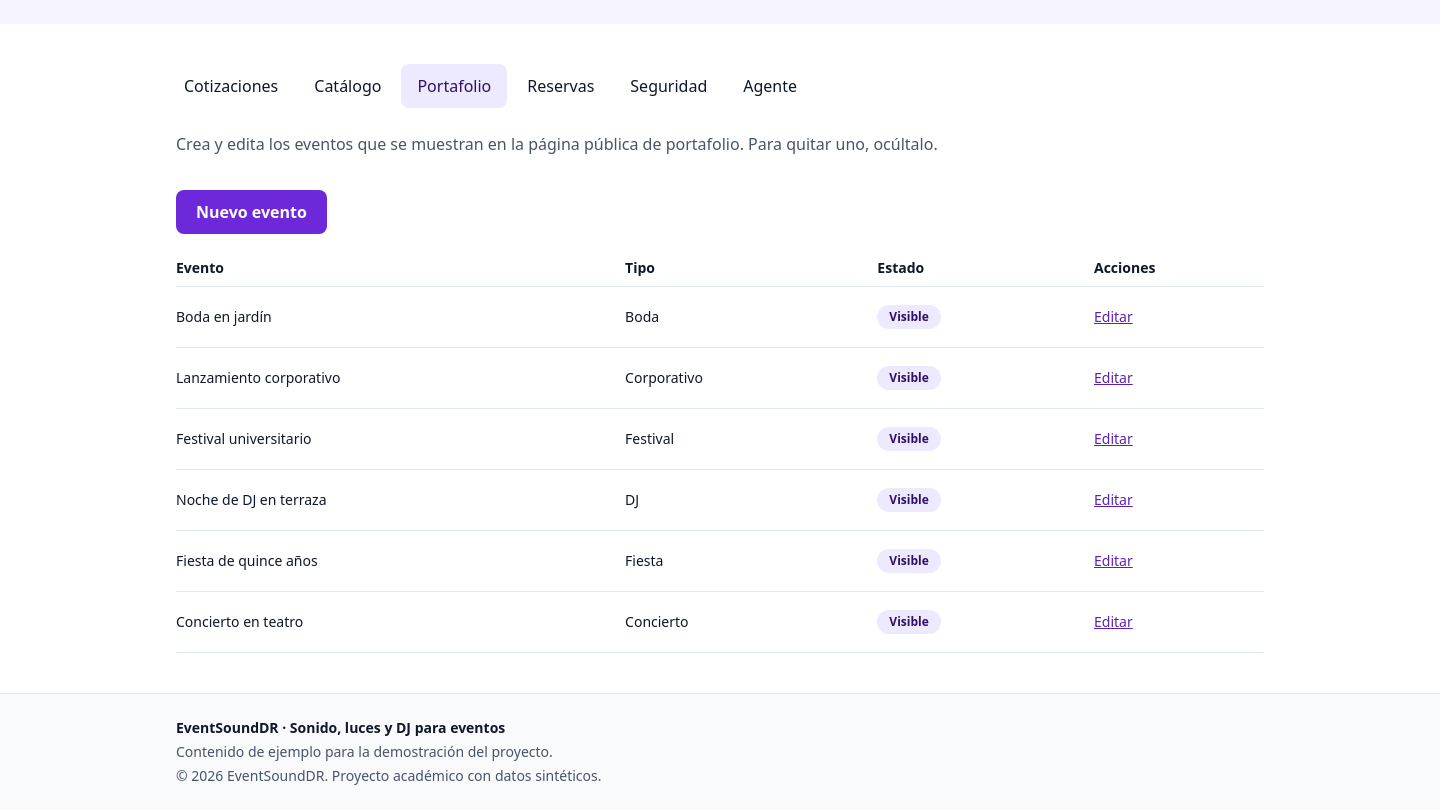
Test: portfolio admin › opens the form in a dialog; cancel and Escape close it without saving
The width and height of the screenshot is (1440, 810).
(page scrolled)
Click the button "Editar" in the row of "Concierto en teatro".
click(1113, 622)  # box top-left (1094, 600), bottom-right (1133, 644)
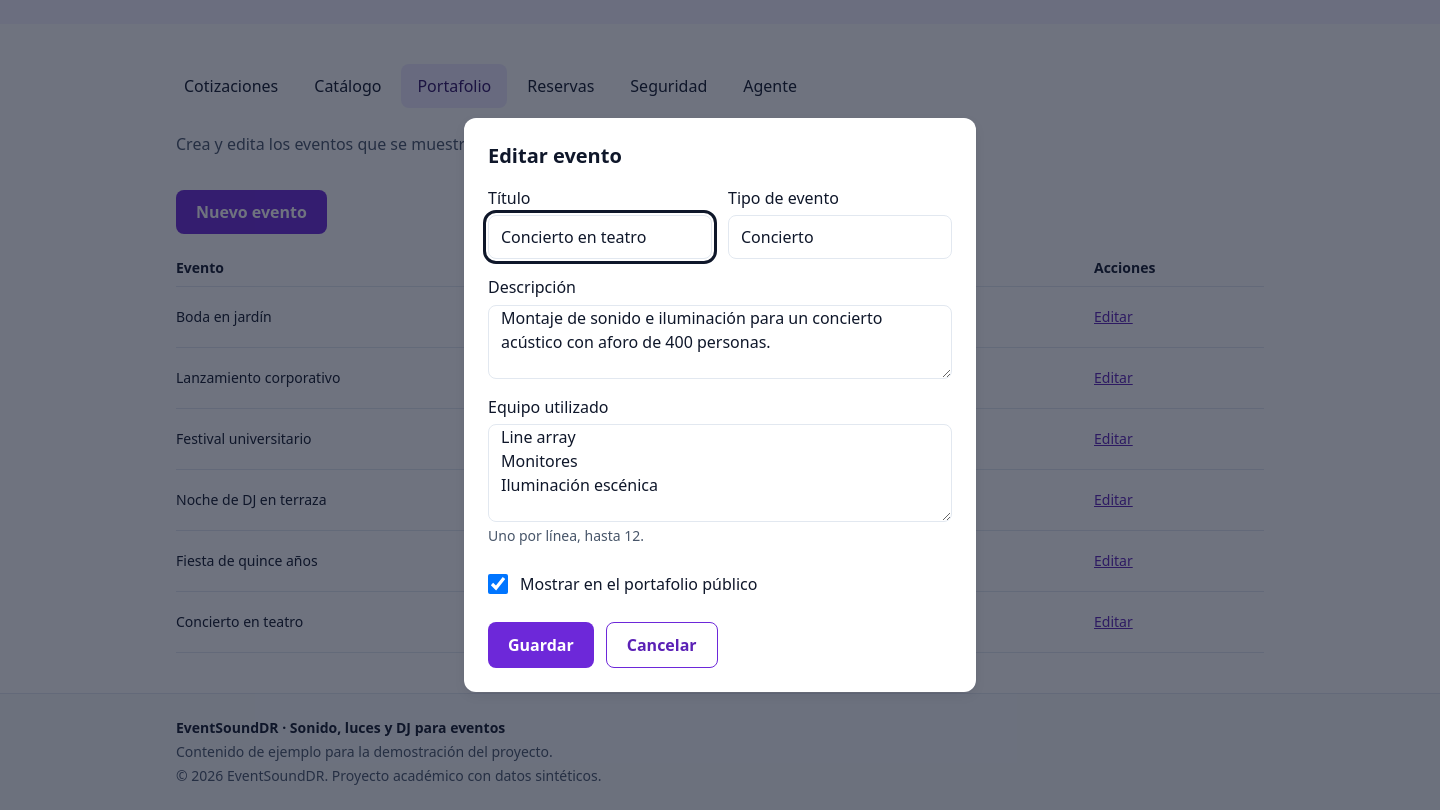
Now the field labelled "Título" holds "Concierto en teatro", box top-left (488, 215), bottom-right (712, 259)
Click the button "Cancelar".
click(662, 645)  # box top-left (606, 622), bottom-right (718, 668)
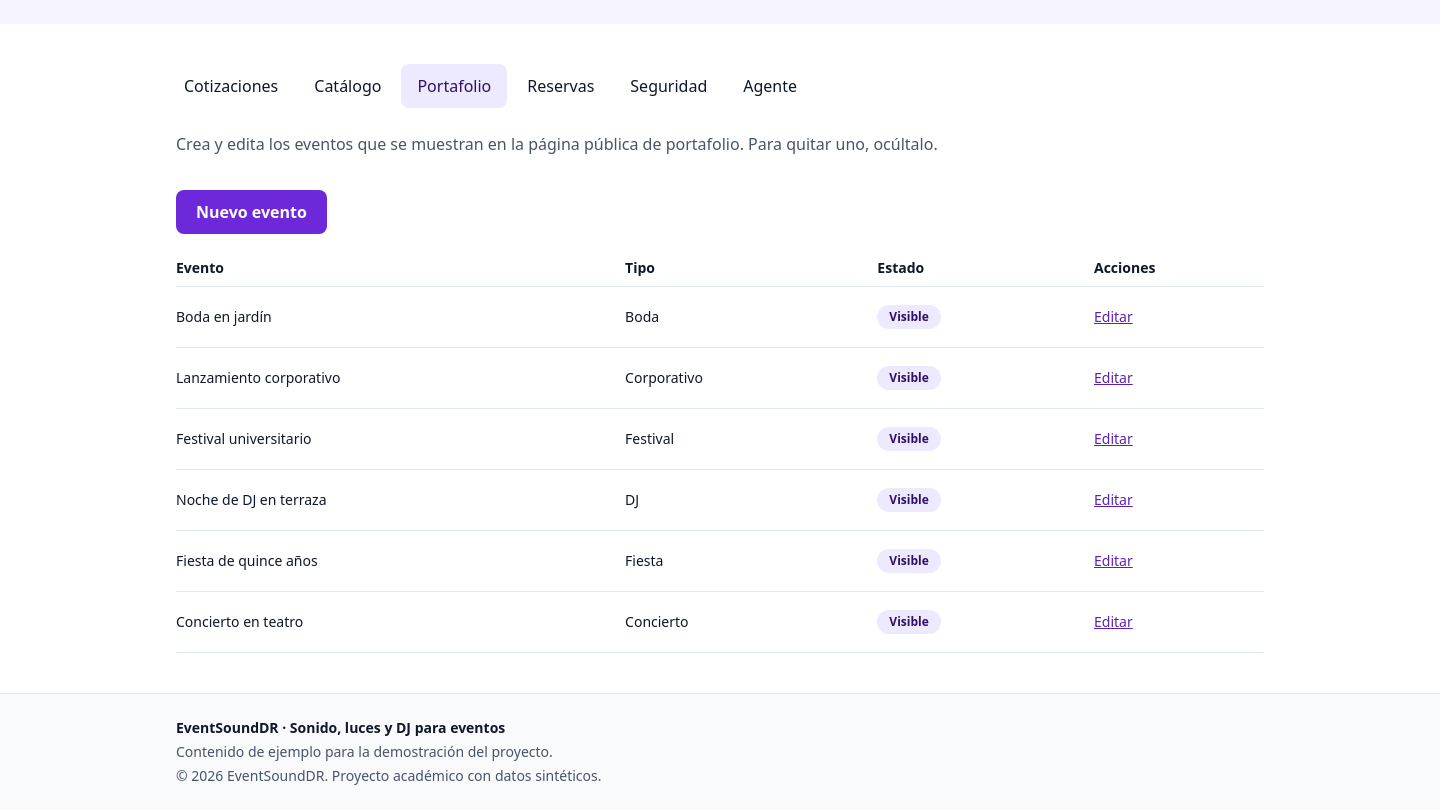
Now the dialog is gone
Click the button "Nuevo evento".
click(251, 212)  # box top-left (176, 190), bottom-right (327, 234)
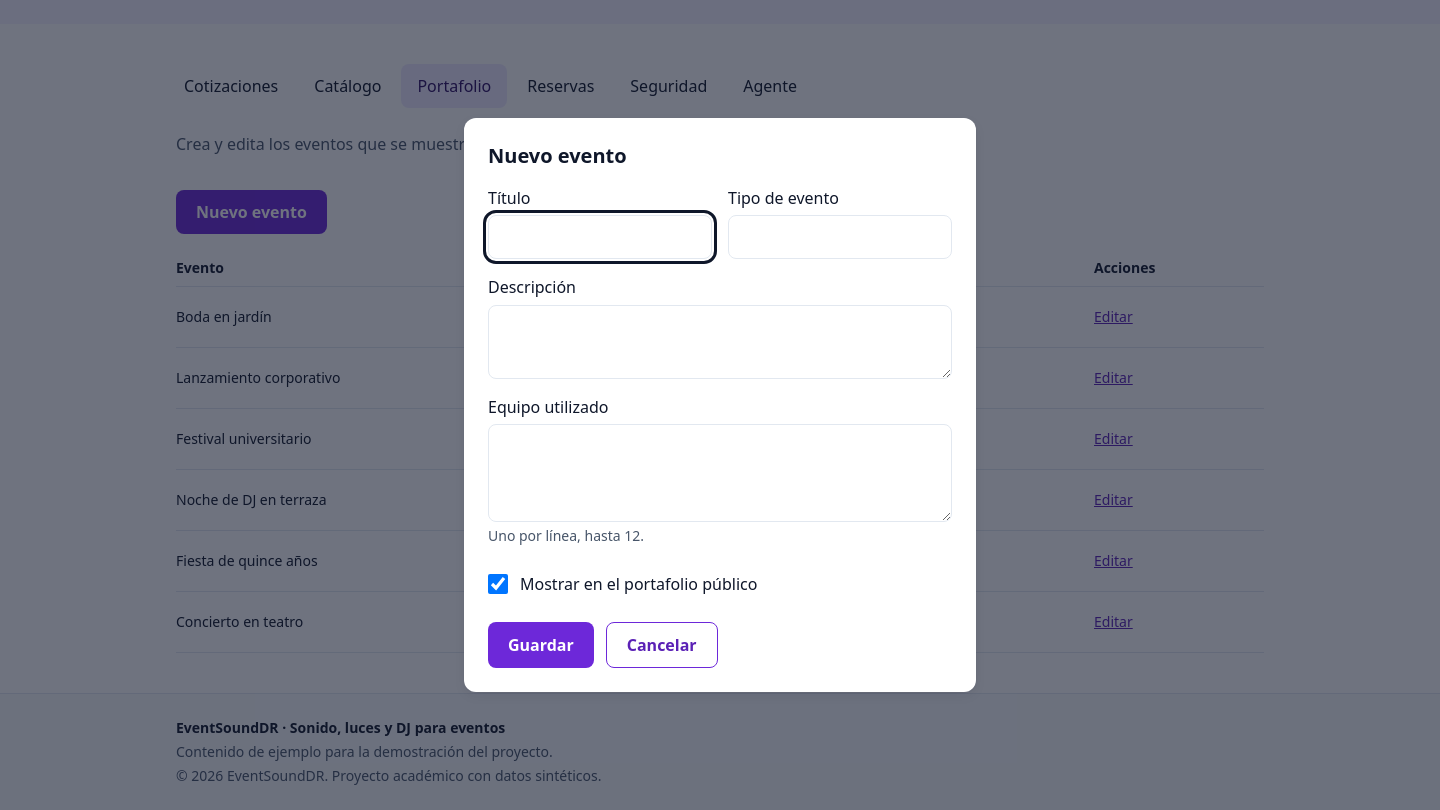
Press Escape in the dialog "Nuevo evento", box top-left (464, 118), bottom-right (976, 692)
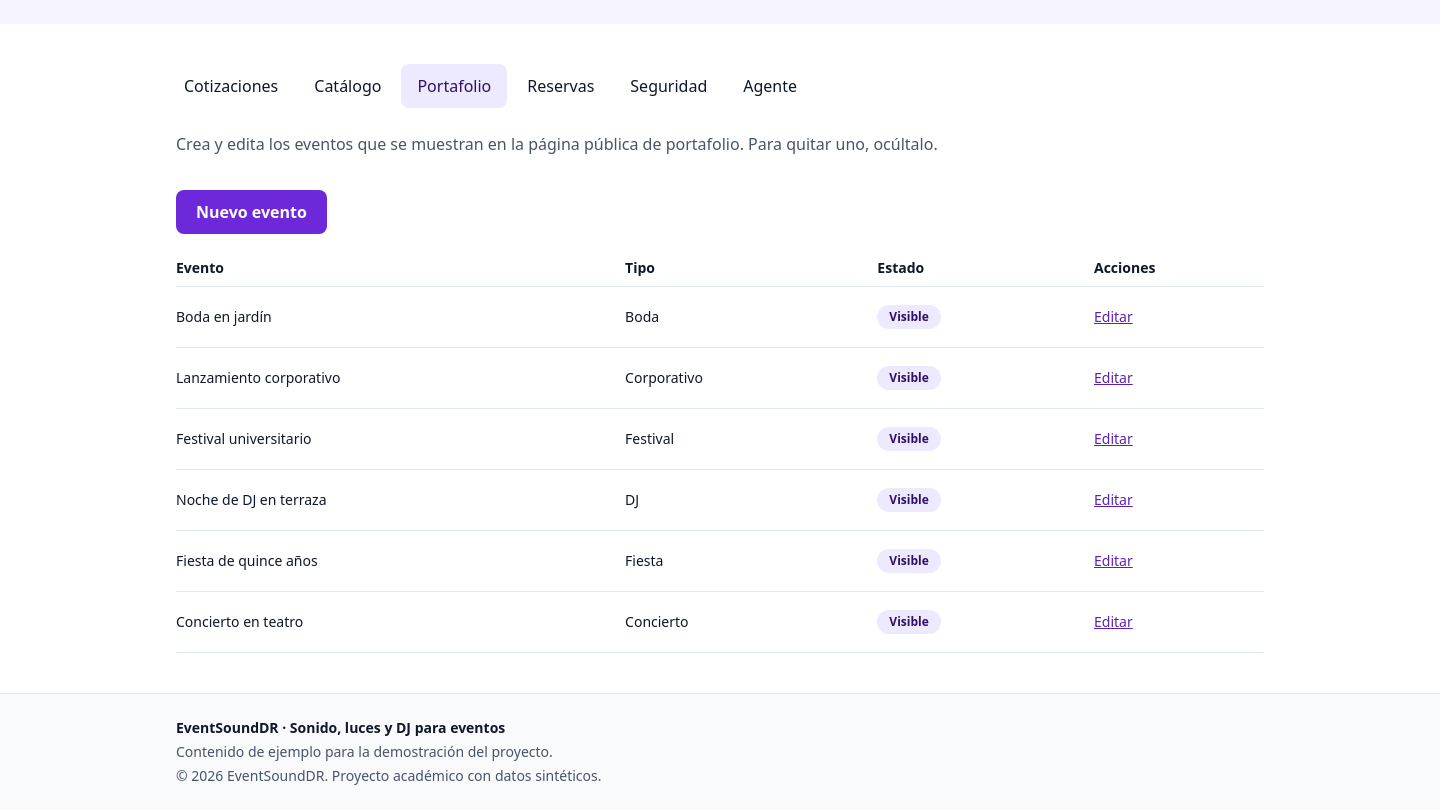
Now the dialog is gone
